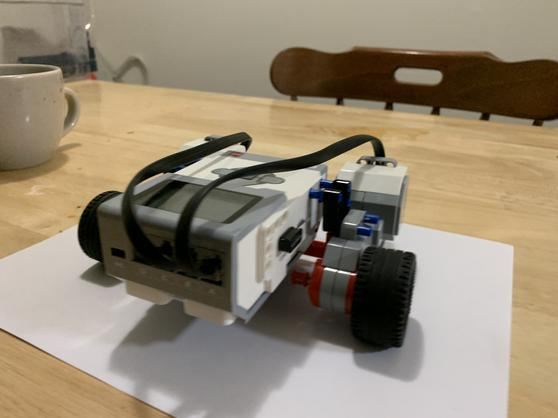robot: (78, 125, 422, 359)
